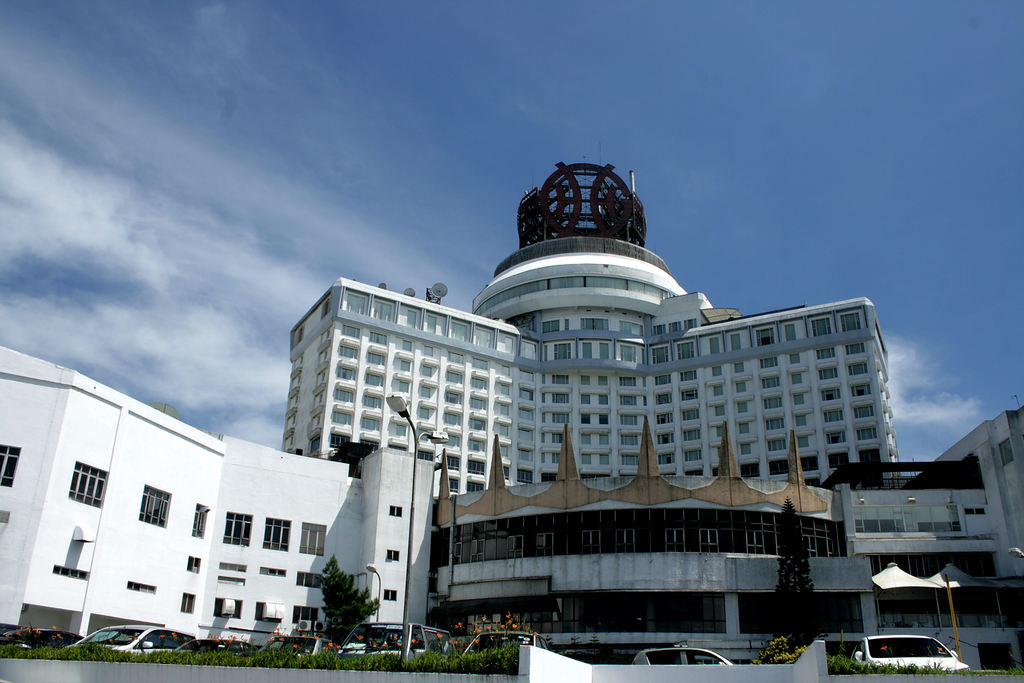cars: (853, 632, 969, 671), (61, 623, 197, 648), (457, 627, 551, 656), (250, 635, 338, 656), (0, 627, 87, 648), (630, 646, 731, 664), (170, 637, 259, 653)
